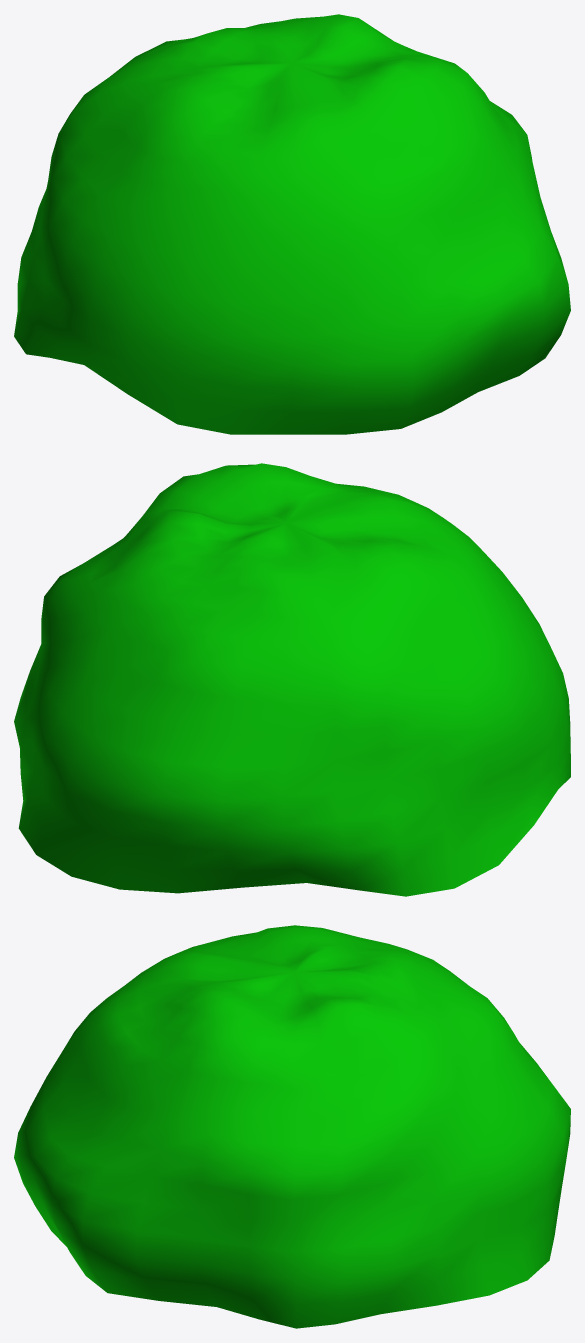
File: cali2.fbx
The picture shows the model from 3 angles, top to bottom: view 1: azimuth 30°, elevation 25°; view 2: azimuth 150°, elevation 25°; view 3: azimuth 270°, elevation 25°; orthographic projection. The views are drawn at different scales.
Parts seen in each view (by area): view 1: pSphere1; view 2: pSphere1; view 3: pSphere1.
Part boxes in pixels (x1=…): pSphere1: x1=14, y1=14, x2=570, y2=434; pSphere1: x1=14, y1=463, x2=570, y2=896; pSphere1: x1=14, y1=925, x2=570, y2=1328.
Bounding box in the file's own units: 1.92 × 1.06 × 2.04.
